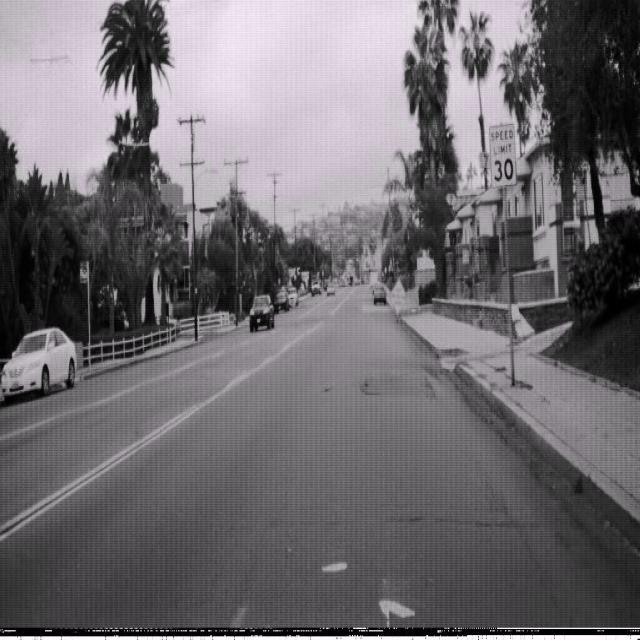speedLimit30: (488, 120, 517, 189)
